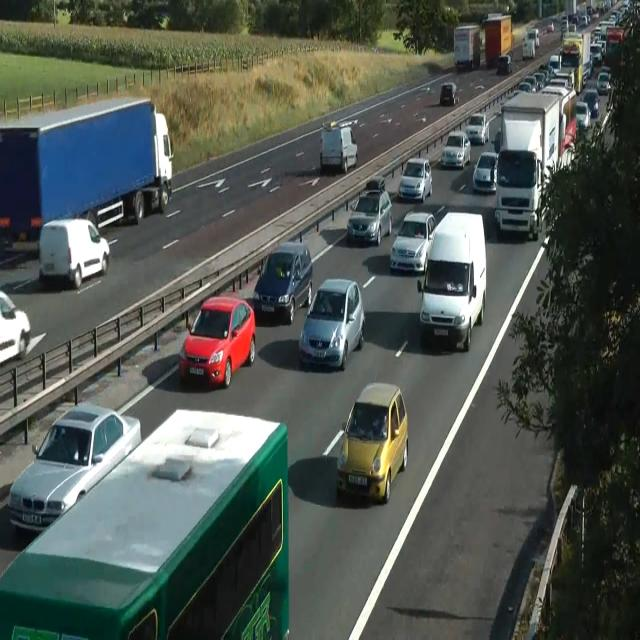bus: (336, 381, 408, 504), (178, 295, 256, 388), (390, 210, 436, 274), (0, 289, 30, 364), (398, 156, 432, 202), (440, 130, 471, 169), (472, 151, 498, 193), (464, 112, 489, 145), (580, 88, 600, 117), (576, 101, 592, 130), (439, 82, 458, 106), (496, 54, 512, 75), (596, 71, 610, 94), (590, 42, 602, 66), (548, 53, 560, 75), (528, 28, 540, 48), (546, 21, 554, 32)
jeep: (8, 400, 142, 536), (416, 211, 486, 351), (299, 276, 365, 370), (38, 217, 110, 289), (253, 240, 313, 324), (494, 148, 542, 240), (347, 187, 392, 245)
minibus: (0, 406, 290, 639), (0, 96, 174, 252), (494, 84, 578, 240), (548, 31, 592, 93), (319, 120, 358, 173), (480, 13, 514, 70), (453, 23, 481, 70), (522, 30, 536, 60)
